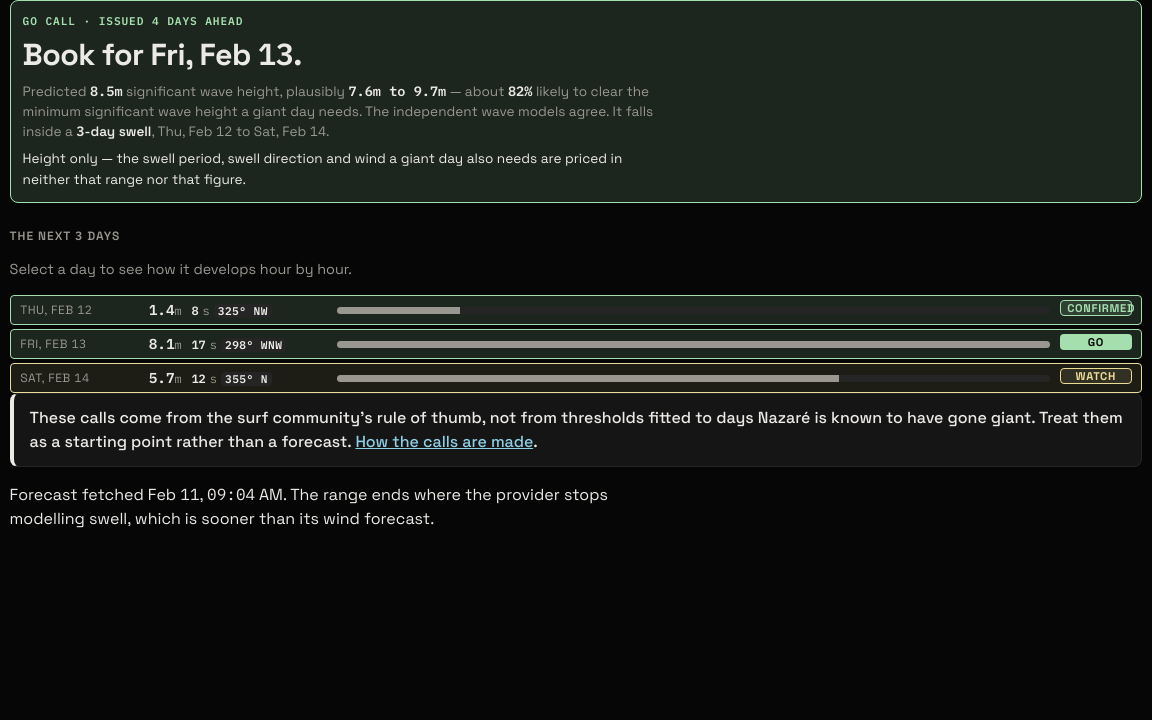
Test: how much the forecasters agree › says how many independent forecasters stand behind it
Click the button with aria-label "2026-02-13".
click(576, 344)  # box 10,329 -> 1142,359
(page scrolled)
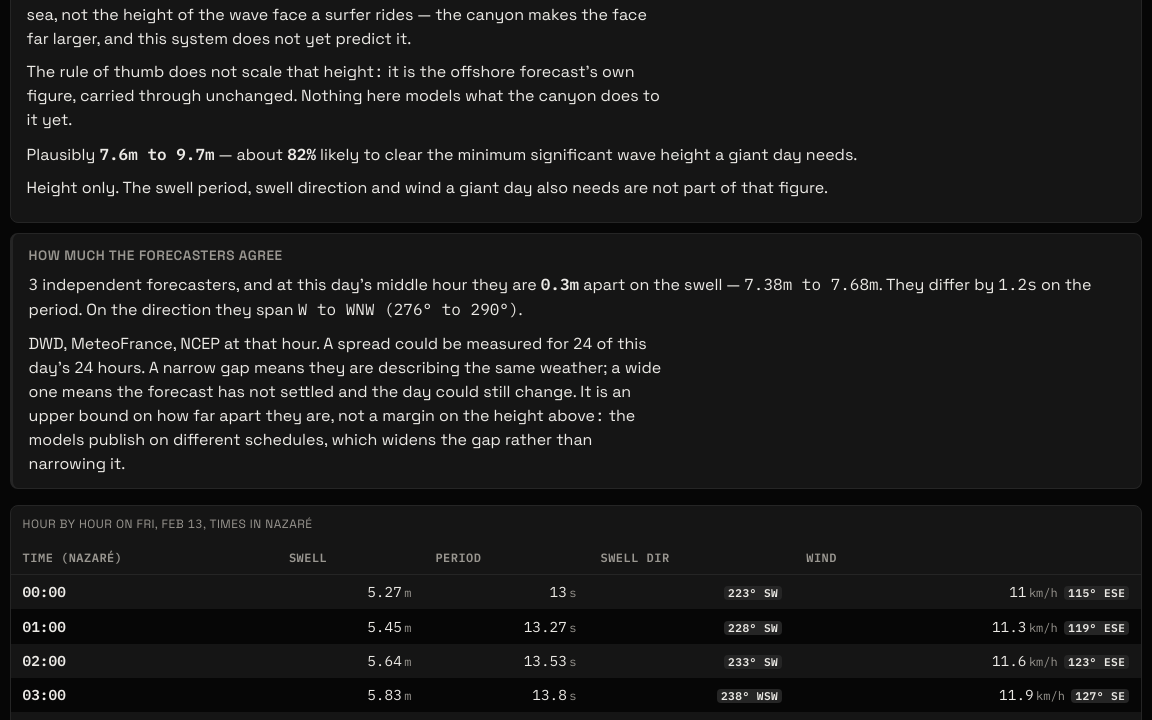
Result: the element "How much the forecasters agree" shows "DWD" at 29,333 -> 220,354
Result: the element "How much the forecasters agree" shows "MeteoFrance" at 29,333 -> 220,354
Result: the element "How much the forecasters agree" shows "NCEP" at 29,333 -> 220,354
